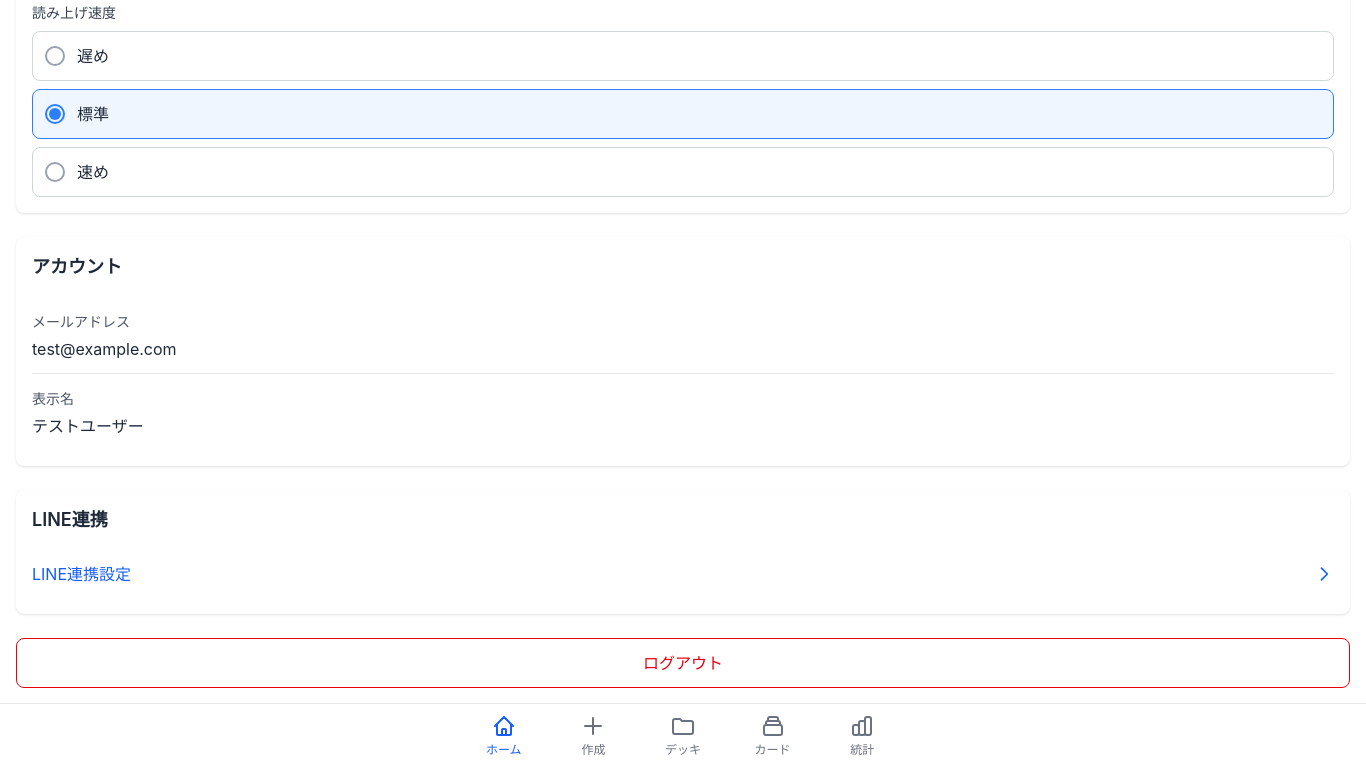
SettingsPage › テストケース7: ログアウト処理 › ログアウト失敗時にエラーメッセージが表示される
(page scrolled)
Click the button with test id "logout-button": (683,663) left=16, top=638, right=1350, bottom=688
(page scrolled)
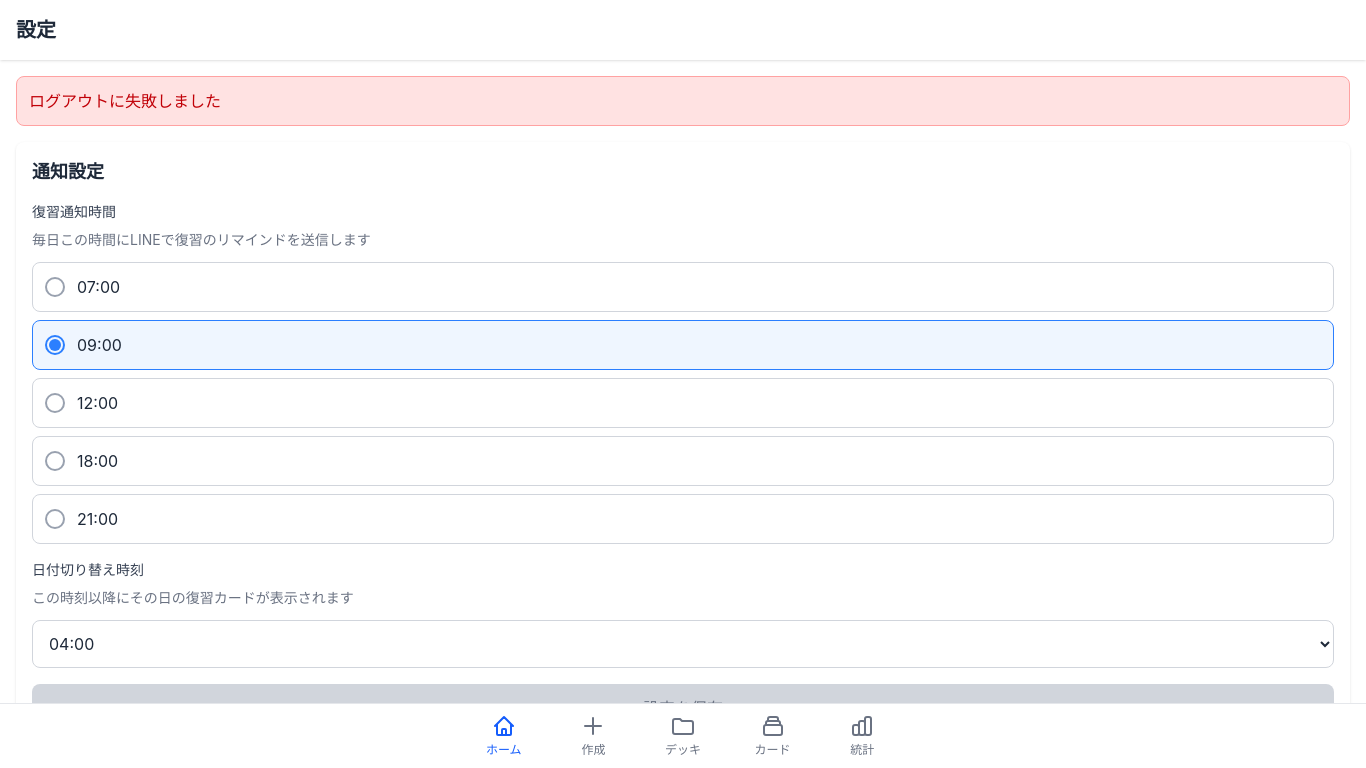
Check: the text with test id "error-message" reads "ログアウトに失敗しました", box left=29, top=91, right=221, bottom=111
